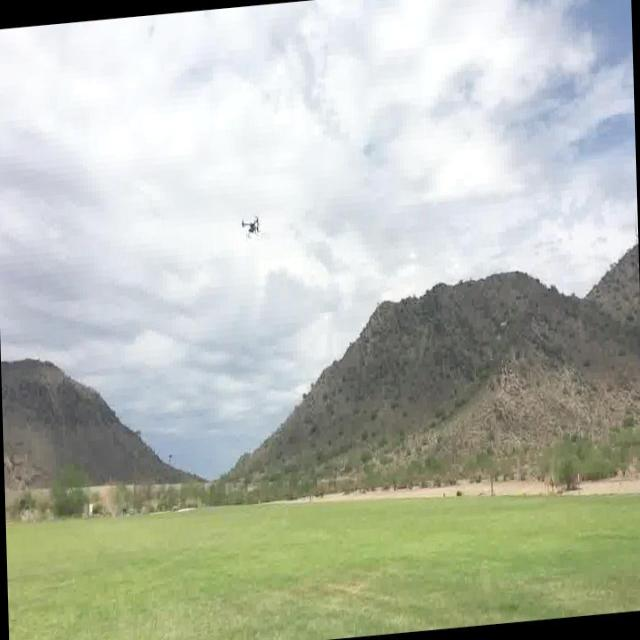drone: (240, 214, 263, 242)
